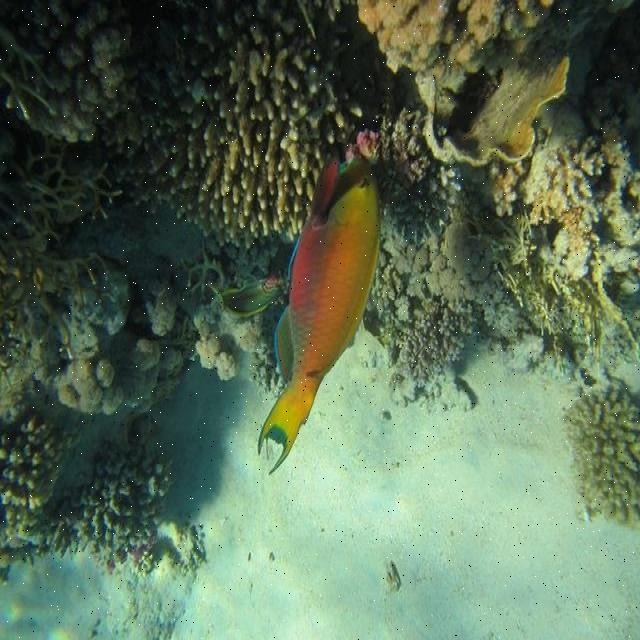fish: (257, 155, 383, 475), (210, 277, 286, 317)
reefs: (0, 0, 361, 246), (356, 1, 639, 294), (0, 414, 211, 589), (359, 222, 542, 414), (0, 249, 192, 415), (347, 108, 460, 239), (565, 377, 639, 529)
